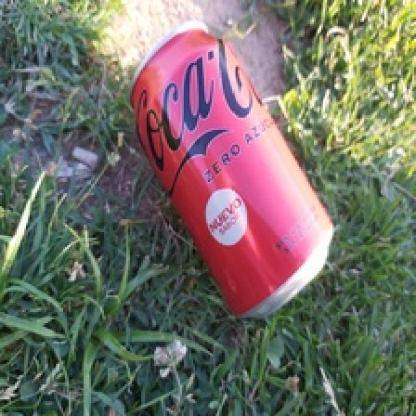Can: (131, 0, 334, 322)
